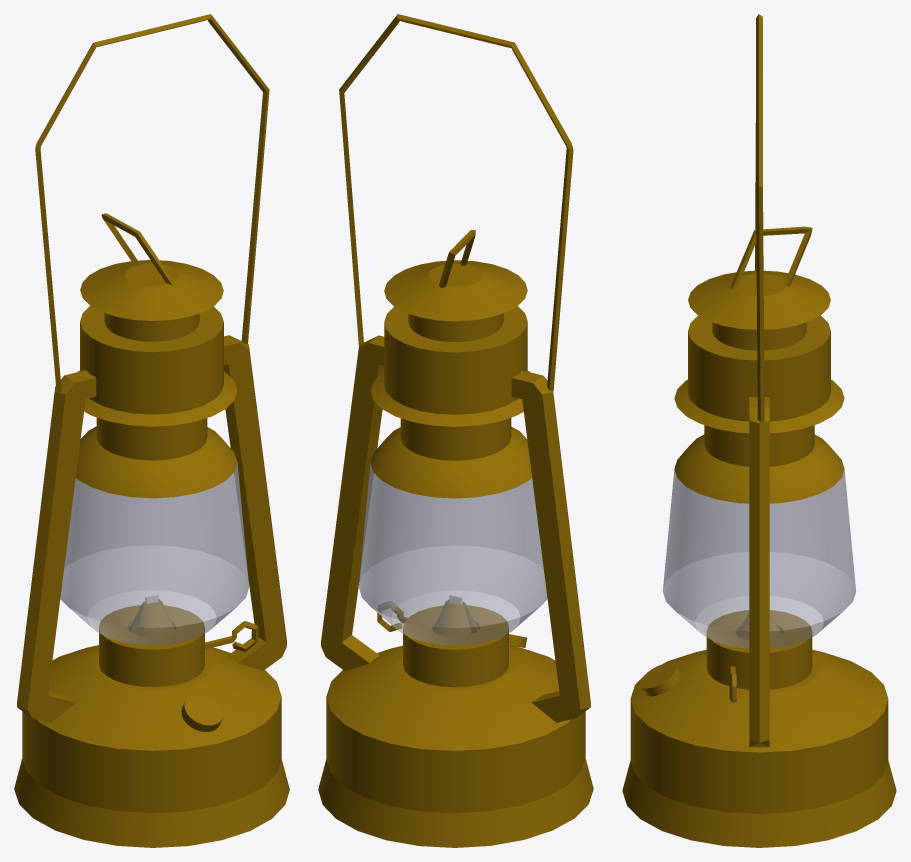
The model's file is lamp_paraffin_feuerhand.obj.
3 views of the same model, side by side, from view 1: azimuth 30°, elevation 25°; view 2: azimuth 150°, elevation 25°; view 3: azimuth 270°, elevation 25° (orthographic).
Visible parts, largest first — view 1: 5_5_5, 12_12_12, 7_7_7, 15_15_15, 11_11_11, 14_14_14, 10_10_10, 13_13_13, 3_3_3, 6_6_6, 1_1_1, 9_9_9 (+2 smaller); view 2: 5_5_5, 12_12_12, 7_7_7, 15_15_15, 11_11_11, 14_14_14, 10_10_10, 13_13_13, 3_3_3, 6_6_6, 9_9_9, 4_4_4; view 3: 5_5_5, 12_12_12, 7_7_7, 11_11_11, 14_14_14, 10_10_10, 13_13_13, 3_3_3, 6_6_6, 4_4_4, 1_1_1.
Part boxes in pixels (x1=…): 5_5_5: x1=14, y1=645, x2=289, y2=847; 12_12_12: x1=60, y1=462, x2=249, y2=645; 7_7_7: x1=78, y1=306, x2=237, y2=426; 15_15_15: x1=17, y1=370, x2=96, y2=722; 11_11_11: x1=75, y1=417, x2=237, y2=498; 14_14_14: x1=224, y1=335, x2=286, y2=670; 10_10_10: x1=80, y1=260, x2=223, y2=320; 13_13_13: x1=99, y1=605, x2=204, y2=687; 3_3_3: x1=35, y1=14, x2=269, y2=392; 6_6_6: x1=104, y1=313, x2=199, y2=341; 1_1_1: x1=181, y1=693, x2=223, y2=731; 9_9_9: x1=128, y1=599, x2=175, y2=637; 5_5_5: x1=318, y1=645, x2=593, y2=847; 12_12_12: x1=359, y1=462, x2=547, y2=645; 7_7_7: x1=370, y1=306, x2=529, y2=426; 15_15_15: x1=511, y1=370, x2=590, y2=722; 11_11_11: x1=370, y1=418, x2=531, y2=498; 14_14_14: x1=321, y1=335, x2=384, y2=670; 10_10_10: x1=384, y1=260, x2=527, y2=321; 13_13_13: x1=403, y1=605, x2=508, y2=687; 3_3_3: x1=339, y1=14, x2=573, y2=390; 6_6_6: x1=408, y1=313, x2=503, y2=342; 9_9_9: x1=432, y1=599, x2=479, y2=637; 4_4_4: x1=439, y1=230, x2=475, y2=288; 5_5_5: x1=622, y1=650, x2=896, y2=847; 12_12_12: x1=662, y1=469, x2=856, y2=648; 7_7_7: x1=674, y1=315, x2=844, y2=433; 11_11_11: x1=674, y1=425, x2=844, y2=503; 14_14_14: x1=749, y1=397, x2=769, y2=747; 10_10_10: x1=688, y1=270, x2=830, y2=329; 13_13_13: x1=706, y1=610, x2=812, y2=689; 3_3_3: x1=755, y1=14, x2=764, y2=422; 6_6_6: x1=712, y1=322, x2=806, y2=350; 4_4_4: x1=730, y1=226, x2=812, y2=288; 1_1_1: x1=640, y1=663, x2=680, y2=696.
Bounding box in the file's own units: 12.3 × 33.12 × 11.
